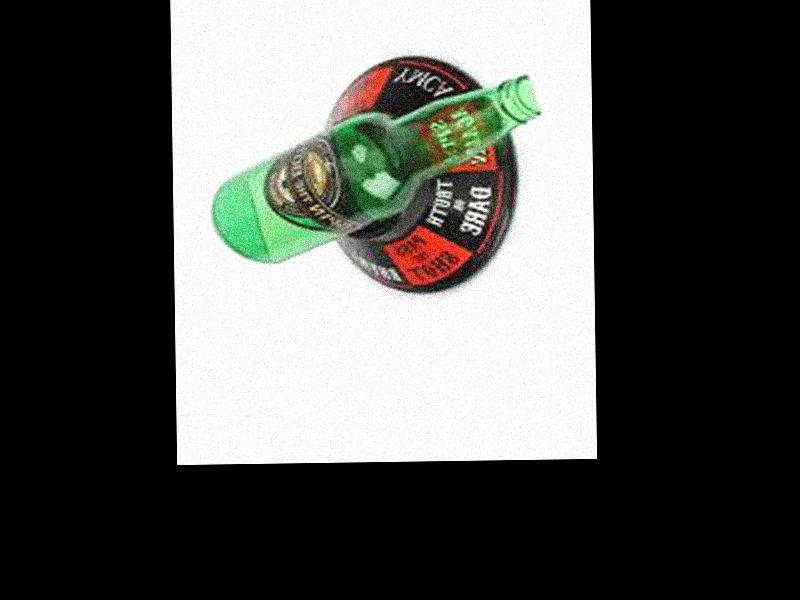Beer: (210, 77, 543, 266)
